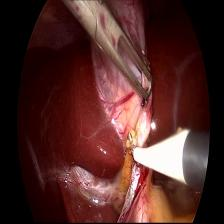Grasper: (66, 0, 154, 103)
Hook: (125, 124, 190, 188)
